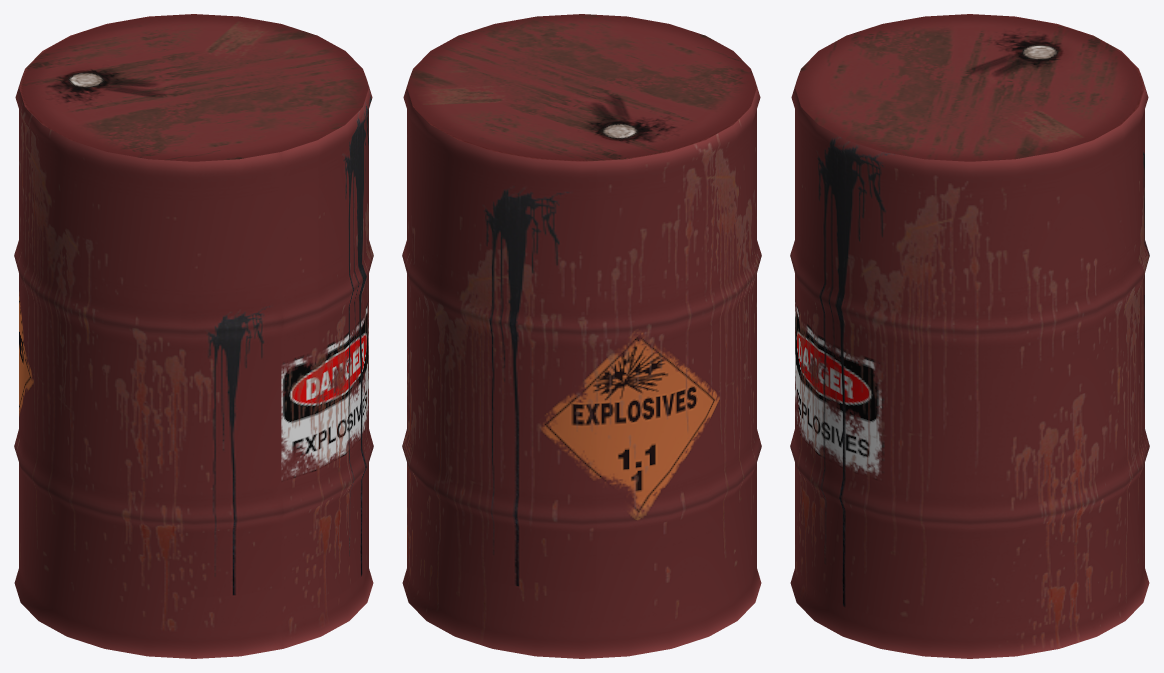
Rendered from Barrel2.fbx.
3 views of the same model, side by side, from view 1: azimuth 30°, elevation 25°; view 2: azimuth 150°, elevation 25°; view 3: azimuth 270°, elevation 25° (orthographic).
Visible parts, largest first — view 1: polySurface3; view 2: polySurface3; view 3: polySurface3.
Boxes of the visible parts, <box> form: polySurface3: <box>14,14,373,658</box>; polySurface3: <box>402,14,761,658</box>; polySurface3: <box>790,14,1149,658</box>.
Bounding box in the file's own units: 0.8969 × 1.36 × 0.8969.
